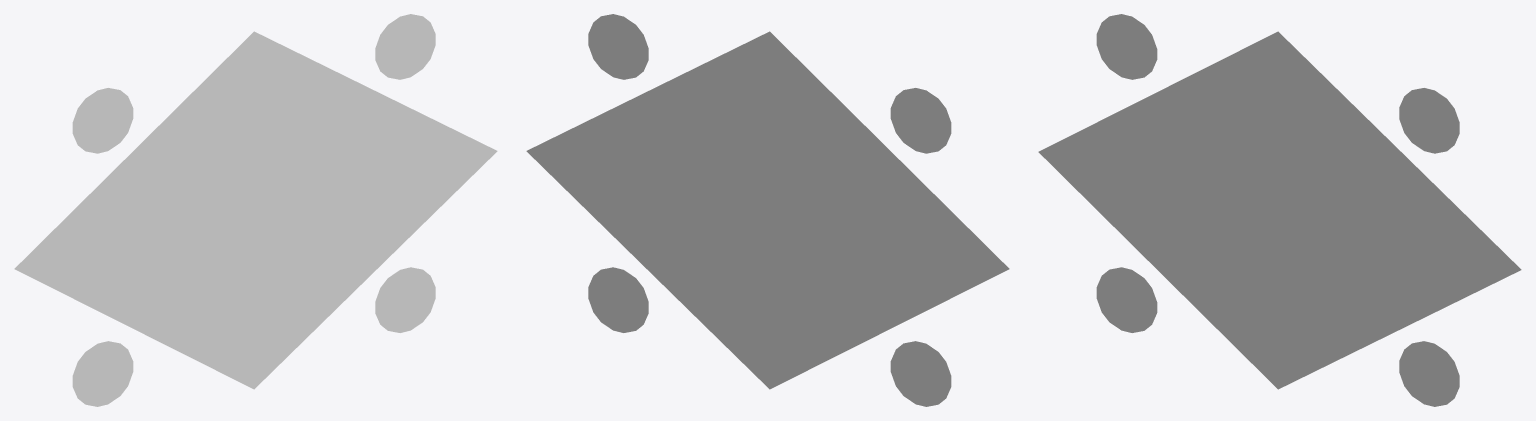
File: garutataspown.obj
The picture shows the model from 3 angles, left to right: view 1: azimuth 30°, elevation 25°; view 2: azimuth 150°, elevation 25°; view 3: azimuth 330°, elevation 25°; orthographic projection.
Parts seen in each view (by area): view 1: 平面.003; view 2: 平面.003; view 3: 平面.003.
Part boxes in pixels (<box>): 平面.003: <box>14,14,497,406</box>; 平面.003: <box>526,14,1009,406</box>; 平面.003: <box>1038,14,1521,406</box>.
Bounding box in the file's own units: 4 × 2.83 × 0.
Materials: 1 (1 with a texture image).
